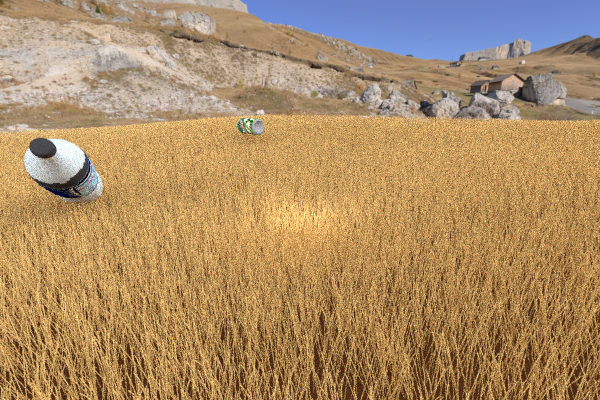Plastic Bottle: (24, 137, 102, 204), (237, 117, 264, 135)
